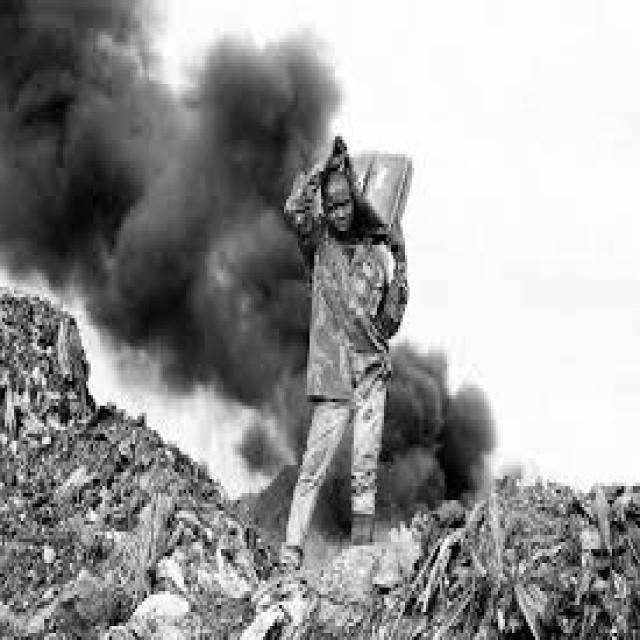Smoke: (0, 0, 498, 530)
